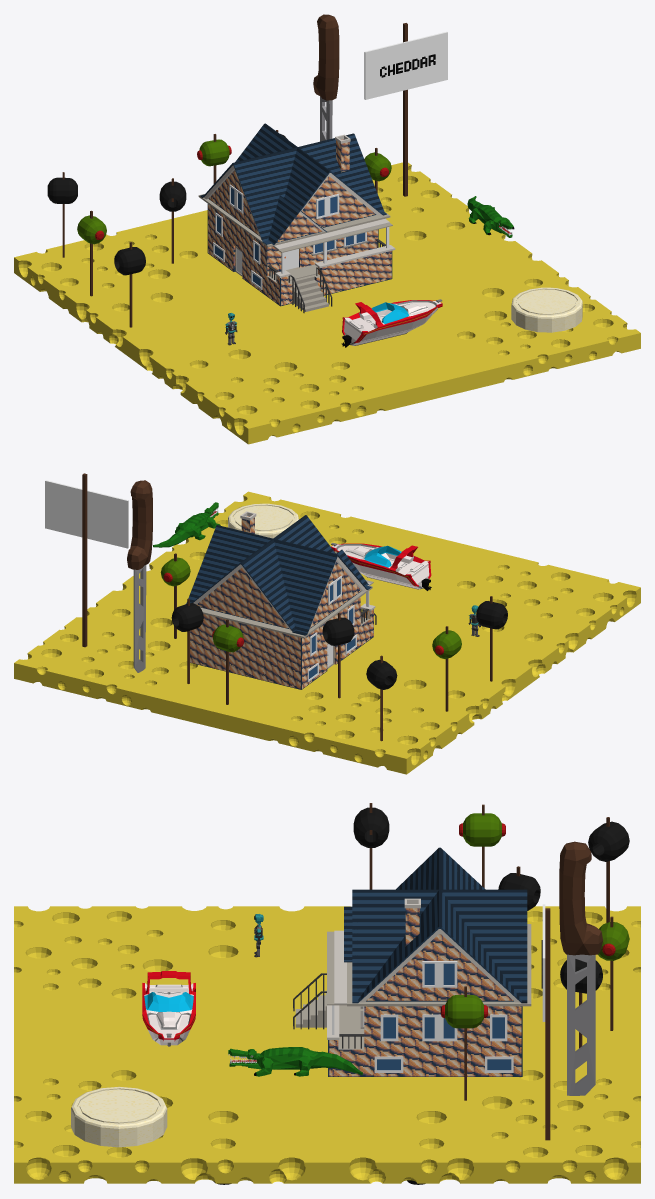
The picture shows the model from 3 angles, top to bottom: view 1: azimuth 30°, elevation 25°; view 2: azimuth 150°, elevation 25°; view 3: azimuth 270°, elevation 25°; orthographic projection. The views are drawn at different scales.
Visible parts, largest first — view 1: Cube.022, Cube.430, Cube.023, VEHICLES_BOAT, Cylinder.016, Cube.024, Sphere.017, ANIMAL_COCODRILO, Sphere.016, Sphere.020, Sphere.018, Sphere.022 (+1 smaller); view 2: Cube.022, Cube.430, Cube.023, Cube.024, VEHICLES_BOAT, Cylinder.016, ANIMAL_COCODRILO, Sphere.017, Sphere.020, Sphere.021, Sphere.016, Sphere.018 (+2 smaller); view 3: Cube.022, Cube.430, Cube.024, Cylinder.016, VEHICLES_BOAT, ANIMAL_COCODRILO, Cube.023, Sphere.019, Sphere.016, Sphere.018, Sphere.017, Sphere.022 (+2 smaller).
Boxes of the visible parts, x1,y1,x2,y2 form: Cube.022: (14,162,640,444); Cube.430: (198,123,395,313); Cube.023: (364,23,447,196); VEHICLES_BOAT: (341,299,442,347); Cylinder.016: (511,287,582,332); Cube.024: (313,14,339,141); Sphere.017: (114,242,145,327); ANIMAL_COCODRILO: (467,196,514,237); Sphere.016: (47,172,77,257); Sphere.020: (159,178,186,263); Sphere.018: (77,210,106,296); Sphere.022: (197,134,231,183); Cube.022: (14,491,640,774); Cube.430: (185,511,376,689); Cube.023: (45,473,128,647); Cube.024: (127,480,152,672); VEHICLES_BOAT: (331,542,431,590); Cylinder.016: (228,503,298,538); ANIMAL_COCODRILO: (153,502,220,547); Sphere.017: (476,596,507,681); Sphere.020: (322,612,354,698); Sphere.021: (171,598,203,683); Sphere.016: (366,655,397,741); Sphere.018: (432,626,461,711); Cube.022: (14,906,640,1183); Cube.430: (293,847,531,1076); Cube.024: (559,841,602,1095); Cylinder.016: (71,1086,167,1147); VEHICLES_BOAT: (142,971,195,1046); ANIMAL_COCODRILO: (228,1047,362,1076); Cube.023: (541,904,550,1140); Sphere.019: (441,986,487,1100); Sphere.016: (588,817,629,922); Sphere.018: (459,804,505,887); Sphere.017: (353,803,389,889); Sphere.022: (598,916,629,1030).
Size of the model in its own units: 3917 by 1985 by 4000.
39 materials, 4 textured.
